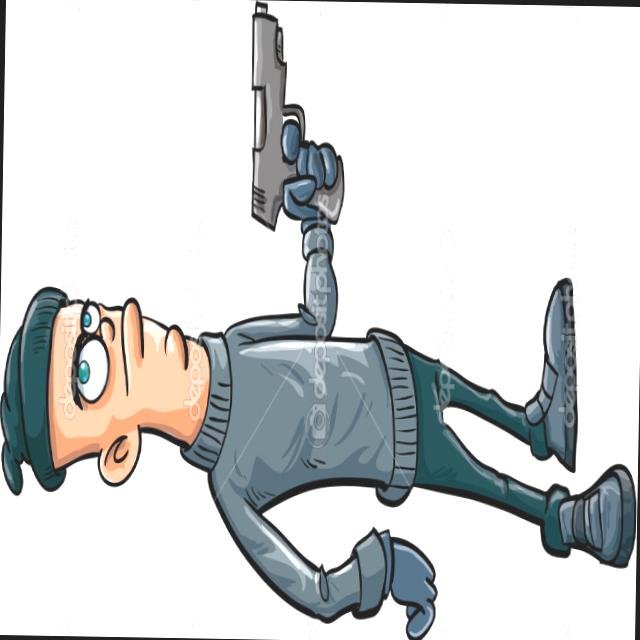handgun: (242, 0, 350, 240)
